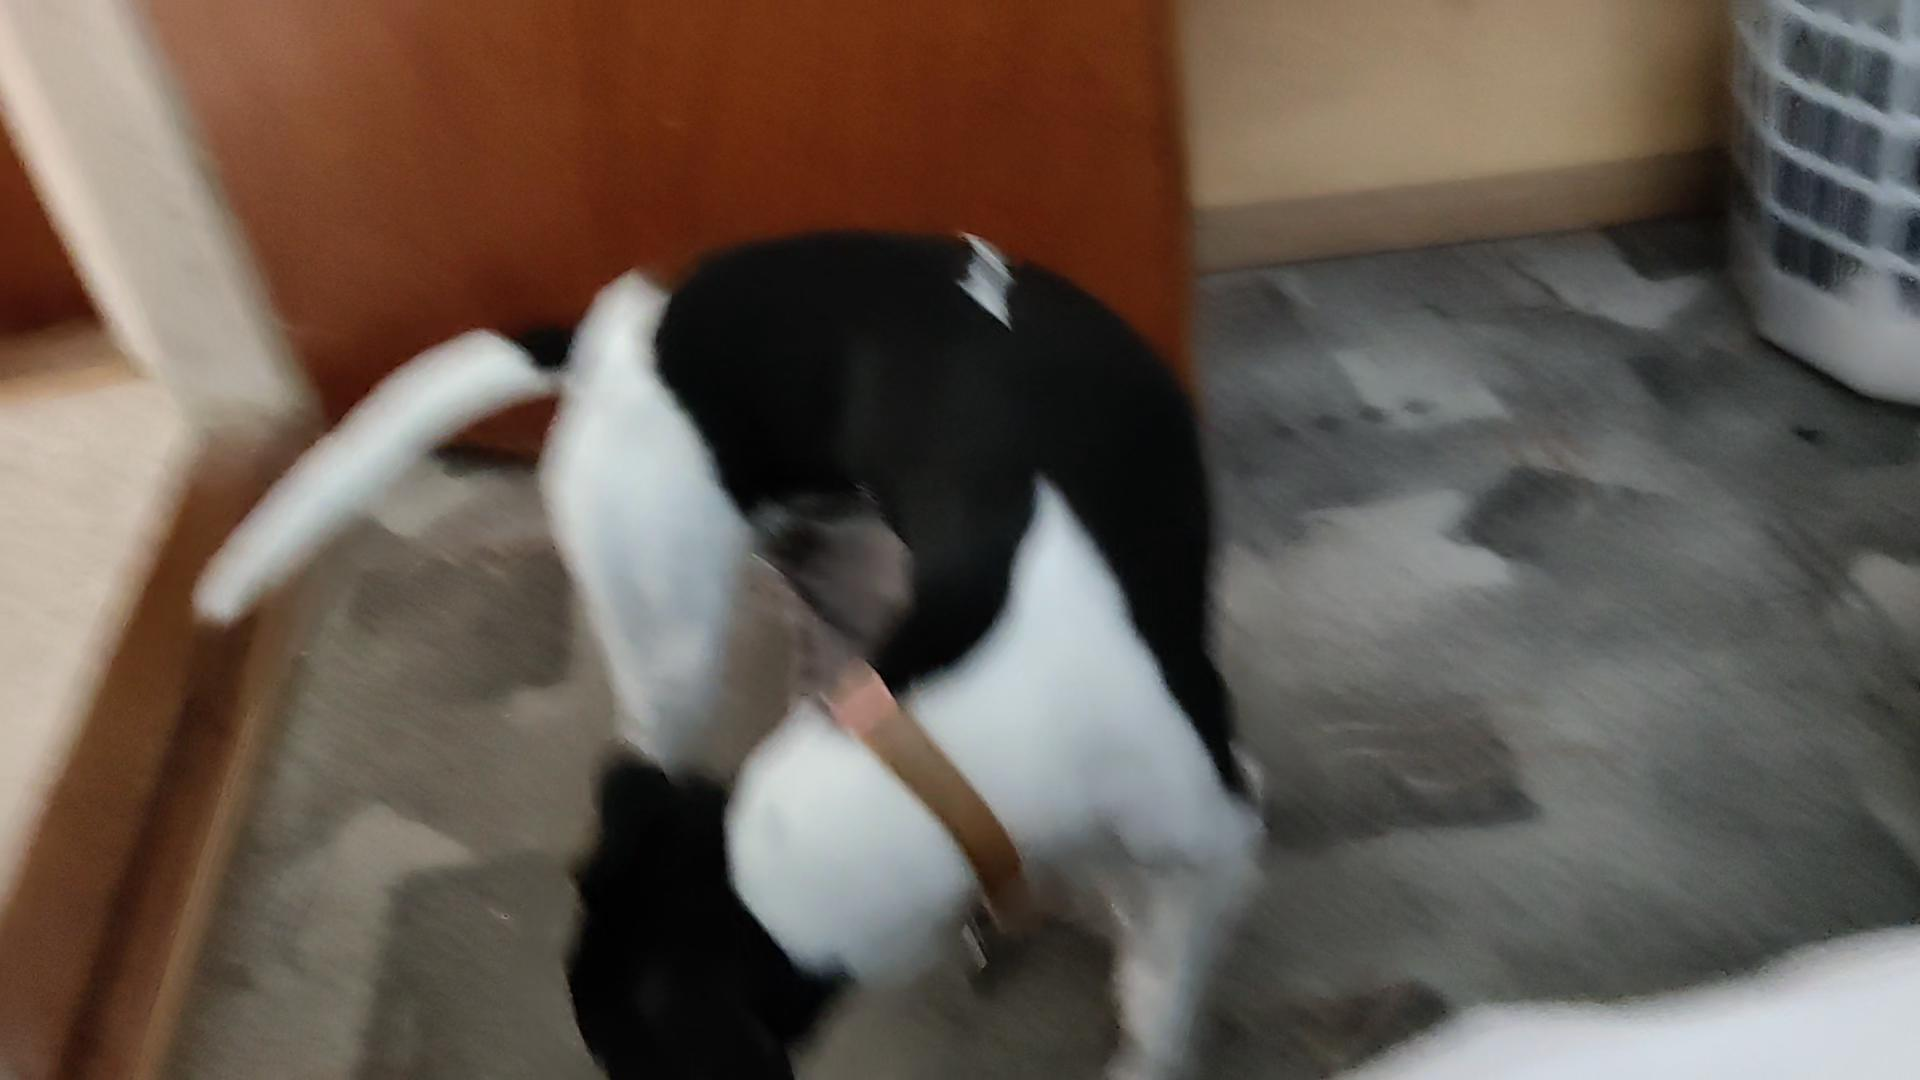Dog: (181, 204, 1312, 1079)
